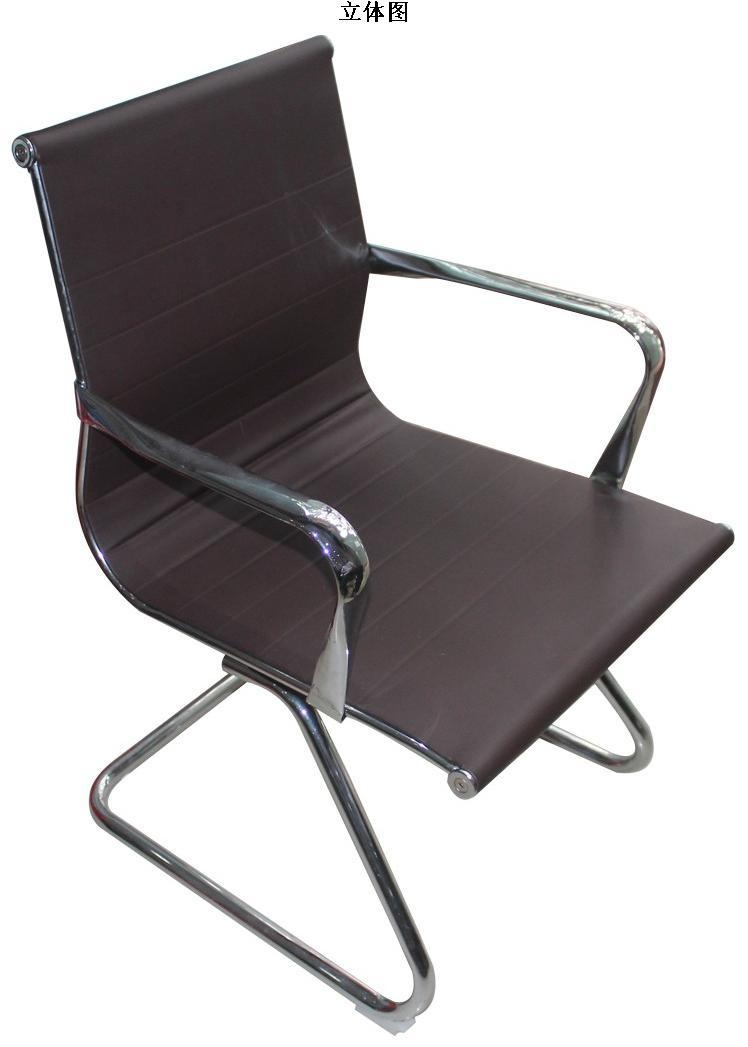obstacle: (15, 37, 732, 1030)
